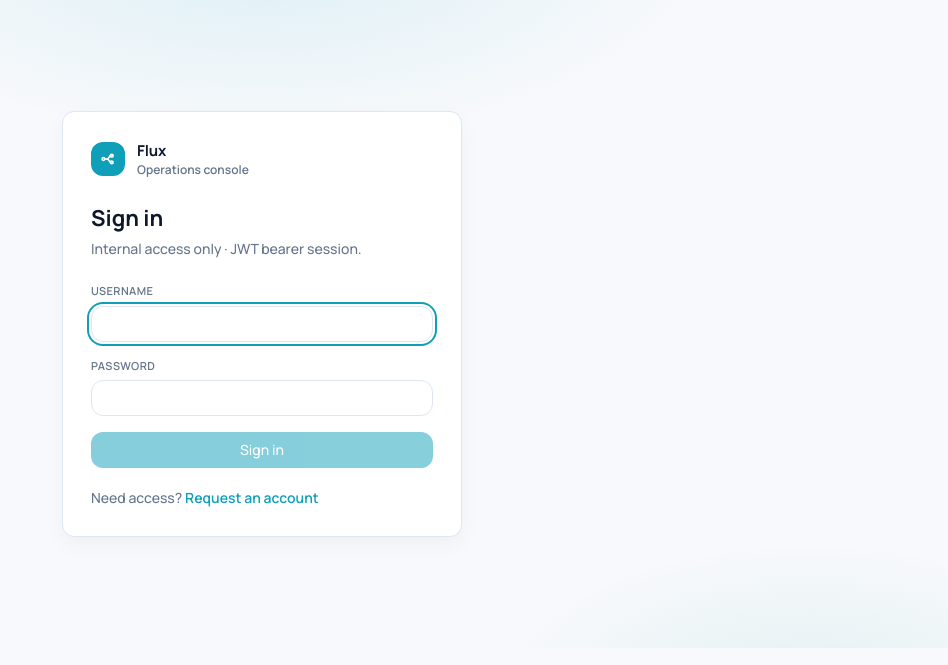
Test case: LoginPage › shows a generic error on 401 and does not store anything
Type "alice" into the field labelled "Username" at point(262, 324), box [91, 306, 433, 342]
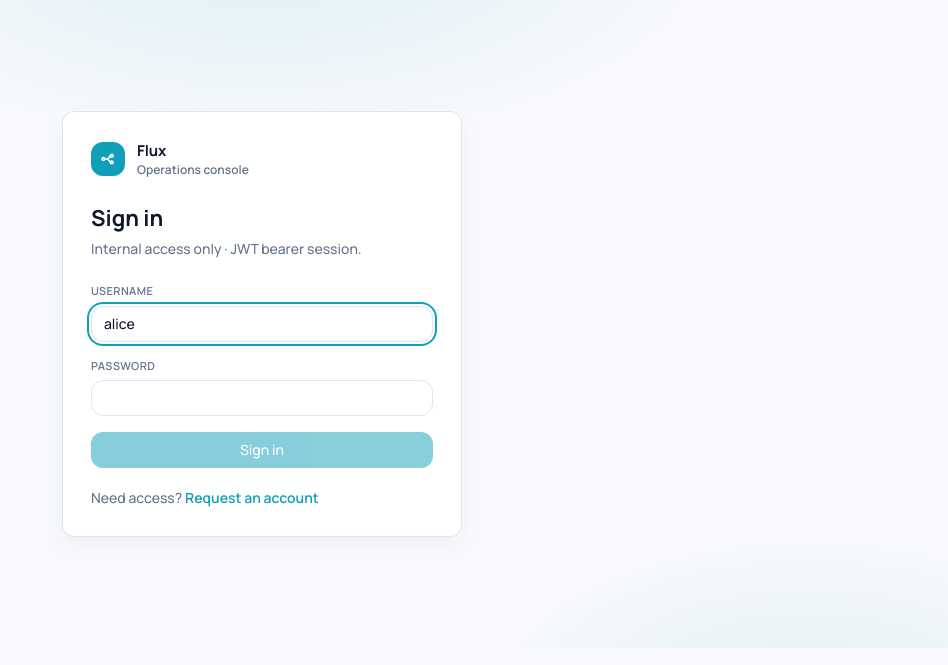
Type "wrong" into the password field labelled "Password" at point(262, 398), box [91, 380, 433, 416]
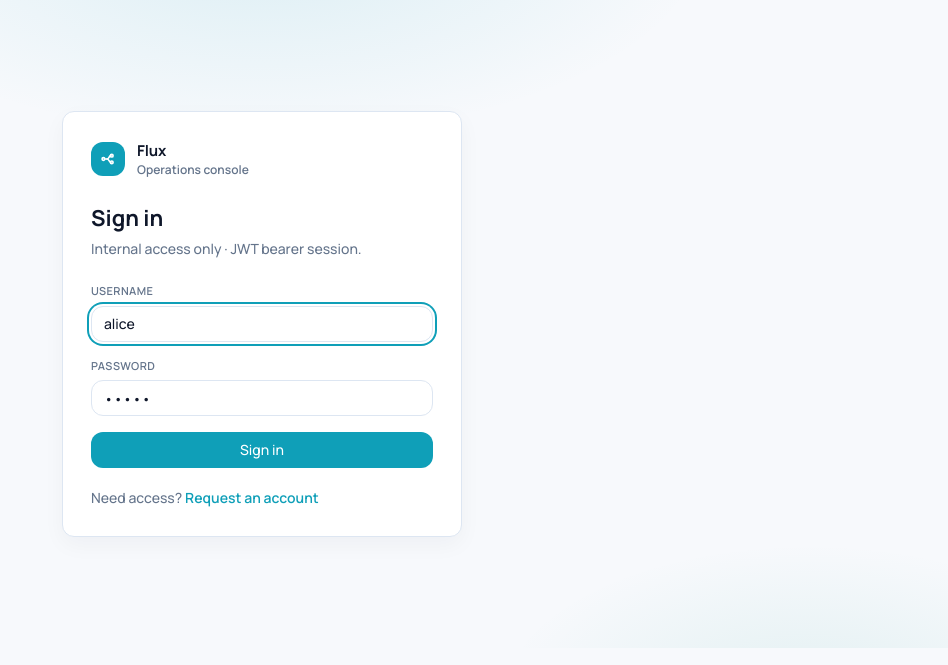
Submit the form "Username Password Sign in", box [91, 283, 433, 468]
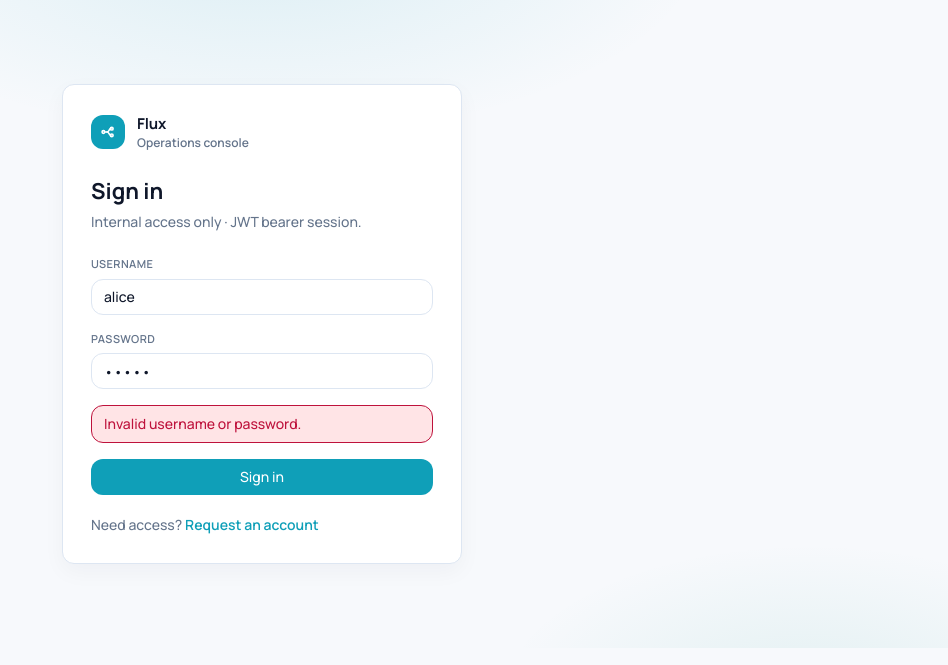
Check: the message shows "Invalid username or password", box [104, 414, 301, 433]
